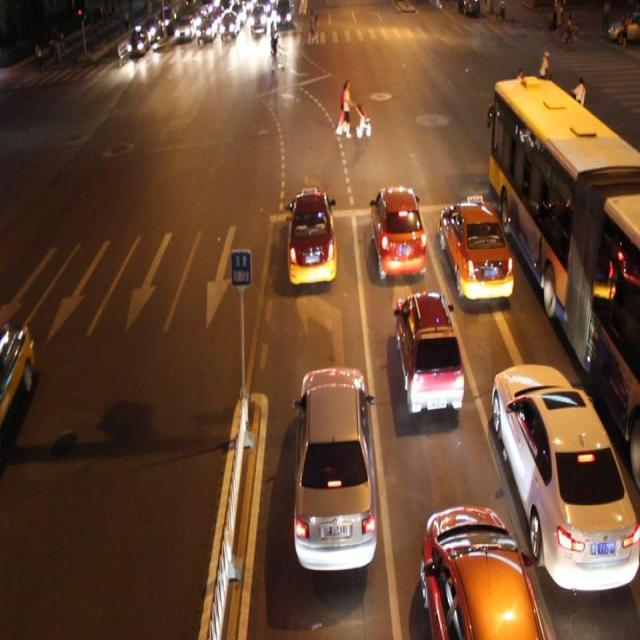car: (490, 361, 640, 593), (295, 362, 376, 574), (422, 505, 544, 640), (393, 290, 463, 418), (440, 198, 512, 306), (369, 184, 426, 279), (285, 187, 336, 287), (1, 316, 36, 441)
van: (490, 74, 640, 462)
